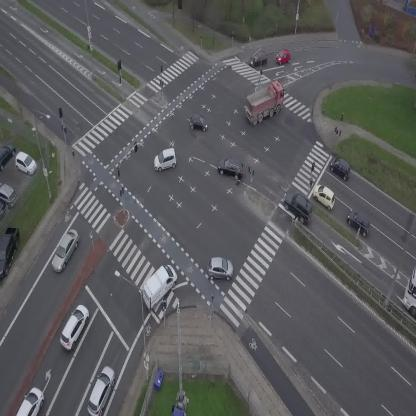car: (56, 302, 94, 352), (83, 364, 119, 416), (46, 227, 84, 274), (277, 187, 320, 227), (16, 385, 48, 416), (342, 208, 375, 238), (309, 182, 340, 211), (326, 153, 356, 181), (151, 147, 179, 172), (217, 157, 244, 179), (208, 257, 233, 280), (247, 50, 269, 67), (189, 114, 208, 132), (273, 48, 292, 65)
lorry: (238, 77, 294, 128), (133, 260, 183, 314)
